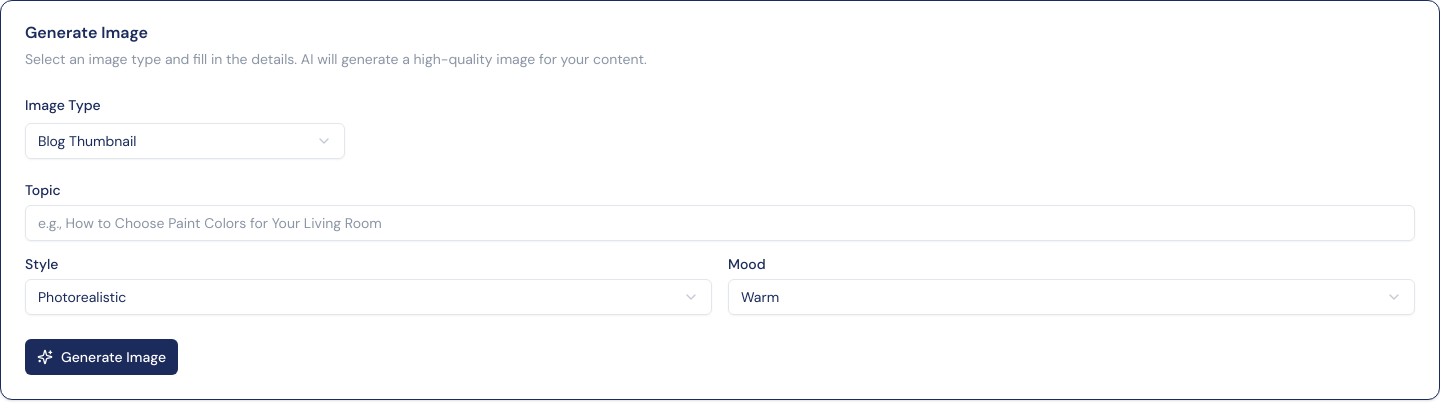
Test: ImageGenerateForm › shows loading state during generation
Step 1. Type "Choosing Paint Colors for Living Room" into the field labelled "Topic" → (720, 223), box [25,205,1415,241]
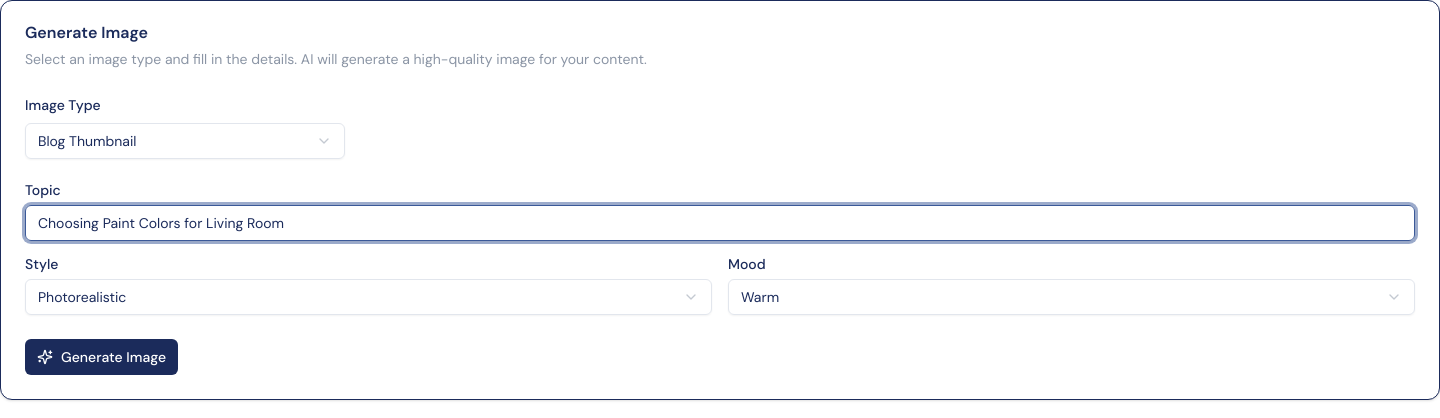
Step 2. Click the button "Generate Image" → (102, 357), box [25,339,178,375]
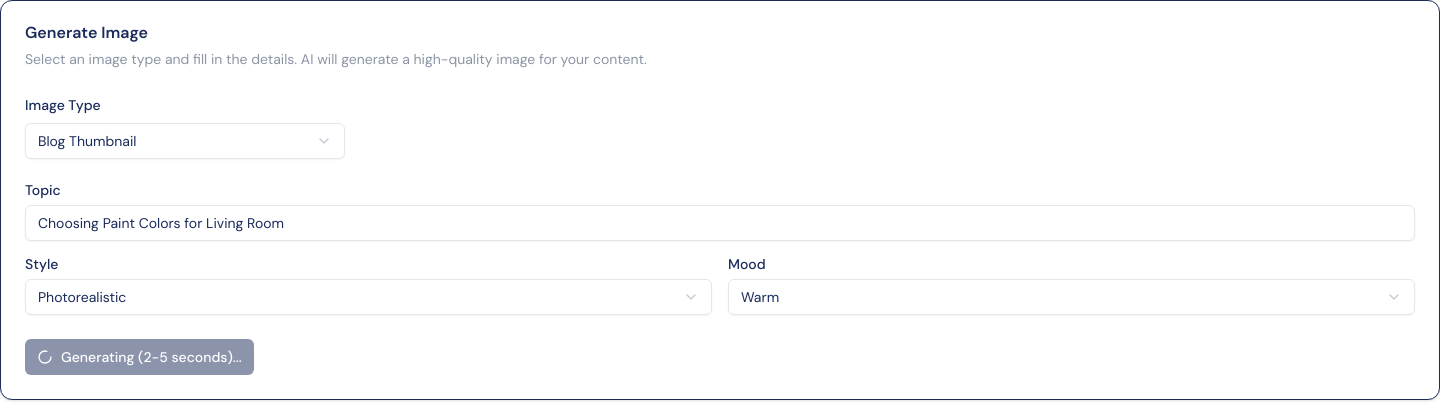
Result: the button "Generating (2-5 seconds)..." is shown at [25,339,254,375]
